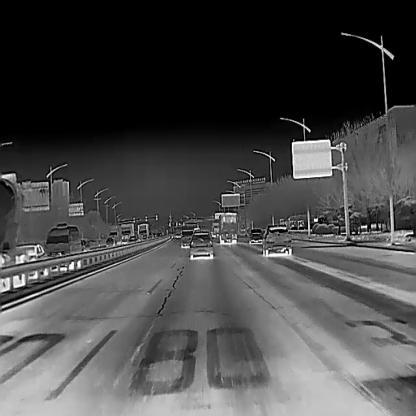car: (45, 225, 81, 257), (262, 224, 292, 256), (189, 232, 213, 259), (218, 213, 237, 243), (15, 243, 43, 261), (248, 228, 262, 244), (181, 229, 192, 246), (120, 223, 134, 234), (109, 225, 120, 237), (138, 223, 148, 234), (127, 235, 140, 243)
